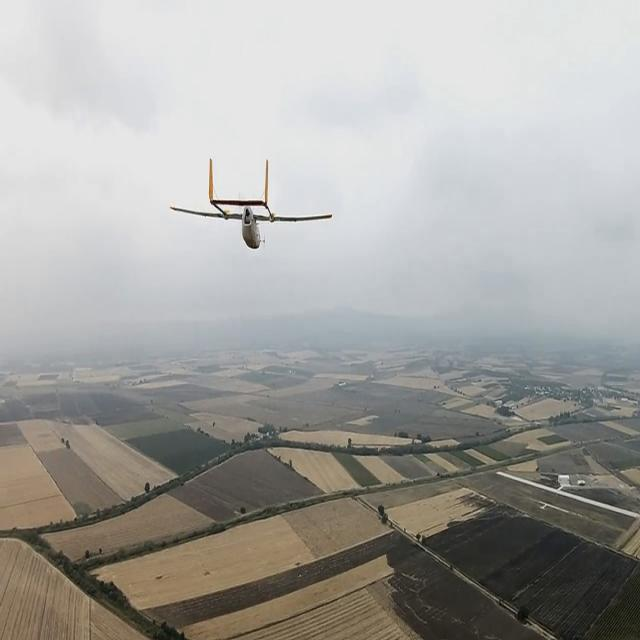iha: (161, 181, 339, 230)
